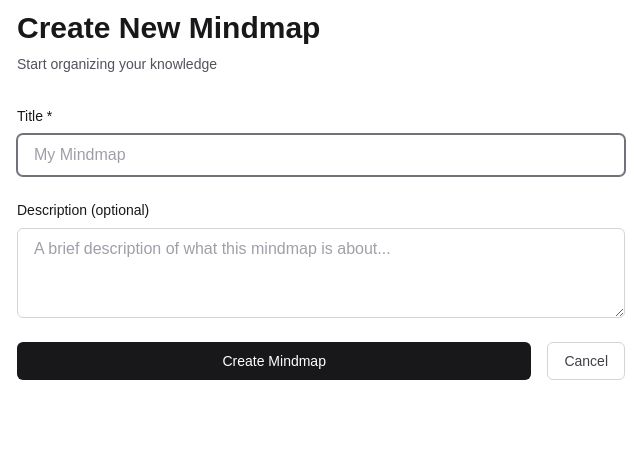
it: New Mindmap Page › should show validation error when title is empty
The image size is (643, 475).
Click the button "Create Mindmap". click: point(274, 361)
box: [17,342,531,380]
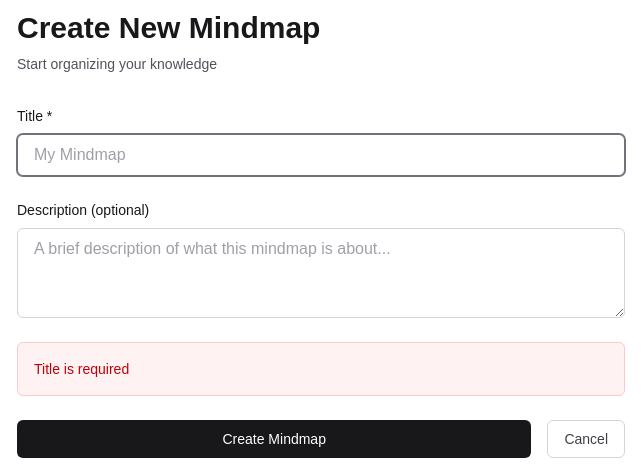
Expected: the text "Title is required" is shown, [34,361,129,377]
